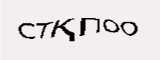Ж: (36, 21, 51, 41)
И: (69, 24, 88, 51)
Л: (50, 24, 65, 49)
С: (91, 22, 110, 49), (111, 22, 126, 46)
